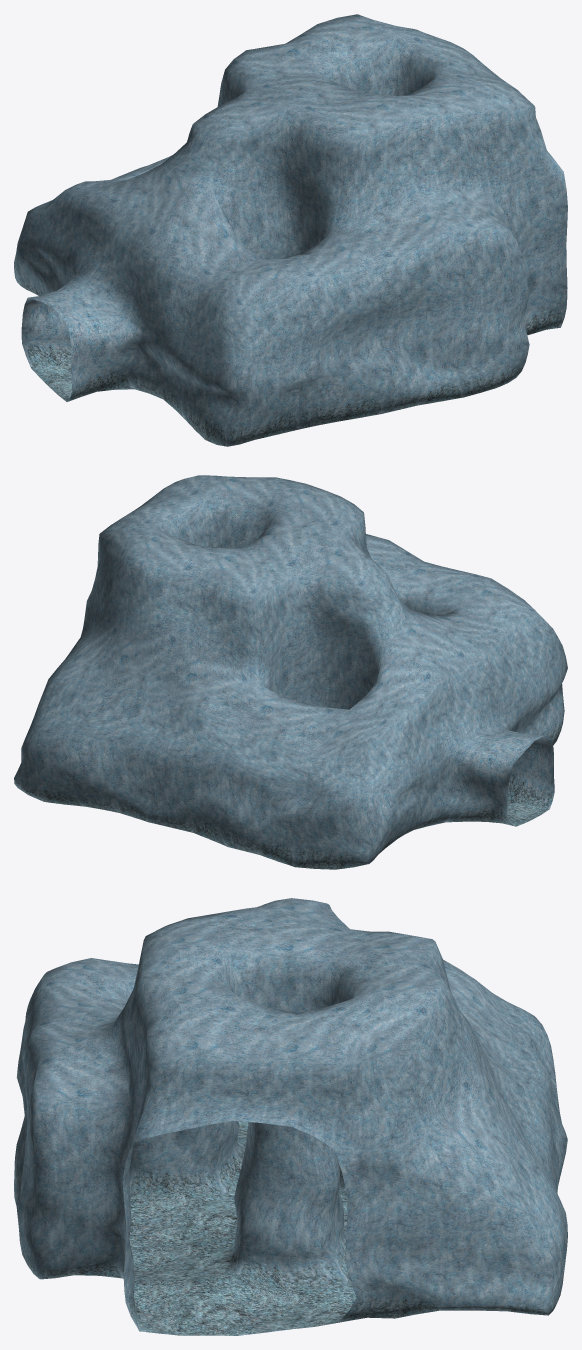
File: thm_all_cave_s02_ice_r8_mesh_r8.fbx
The picture shows the model from 3 angles, top to bottom: view 1: azimuth 30°, elevation 25°; view 2: azimuth 150°, elevation 25°; view 3: azimuth 270°, elevation 25°; orthographic projection. The views are drawn at different scales.
Visible parts, largest first — view 1: mesh_node; view 2: mesh_node; view 3: mesh_node.
Boxes of the visible parts, bbox=[...] form: mesh_node: bbox=[14, 14, 567, 446]; mesh_node: bbox=[14, 475, 567, 869]; mesh_node: bbox=[14, 898, 567, 1335].
Size of the model in its own units: 58.71 by 31.67 by 51.96.
